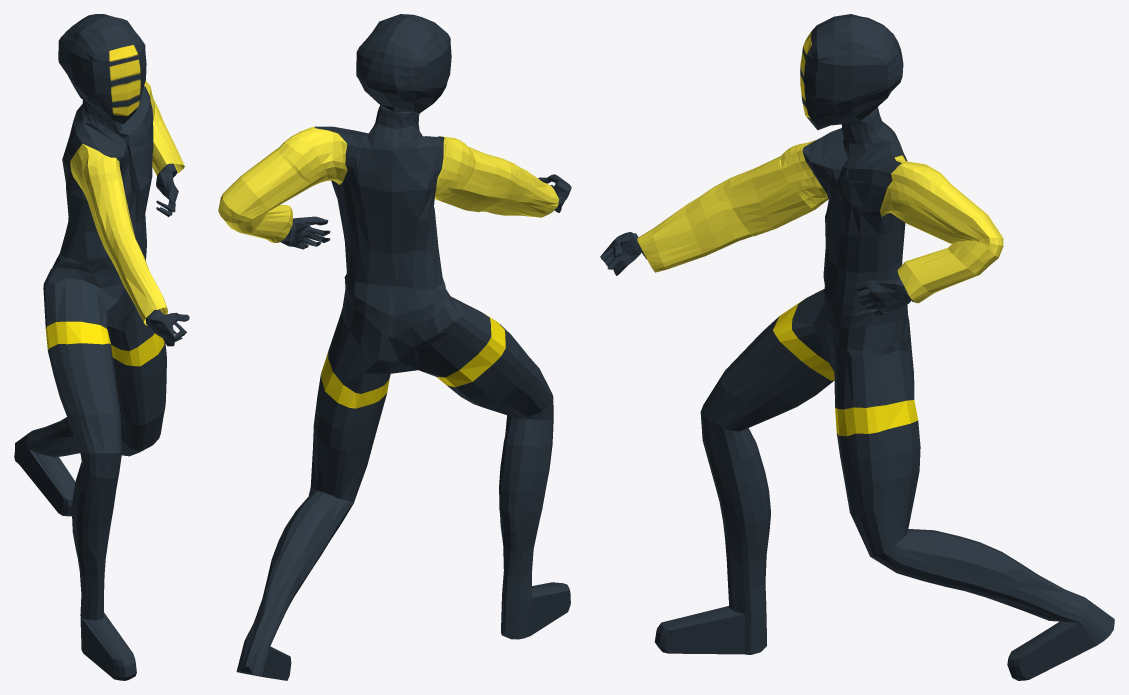
Rendered from Sentry_WL_000005.obj.
3 renders of one model, left to right at view 1: azimuth 30°, elevation 25°; view 2: azimuth 150°, elevation 25°; view 3: azimuth 270°, elevation 25°, orthographic. The views are drawn at different scales.
Visible parts, largest first — view 1: Cube; view 2: Cube; view 3: Cube.
Part boxes in pixels (x1=…): Cube: x1=14, y1=14, x2=189, y2=680; Cube: x1=218, y1=14, x2=571, y2=680; Cube: x1=600, y1=14, x2=1114, y2=680.
Size of the model in its own units: 1.22 by 3.61 by 2.53.
